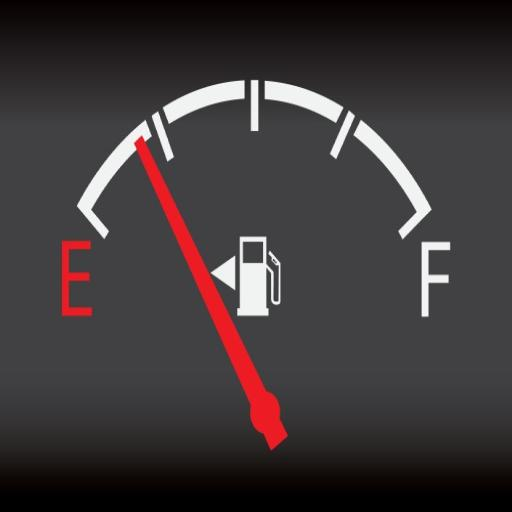empty: (56, 234, 96, 325)
fuel_icon: (236, 231, 277, 323)
full: (420, 238, 452, 318)
guage_area: (48, 75, 463, 472)
needle_center: (242, 371, 289, 455)
needle_tip: (131, 134, 156, 183)
